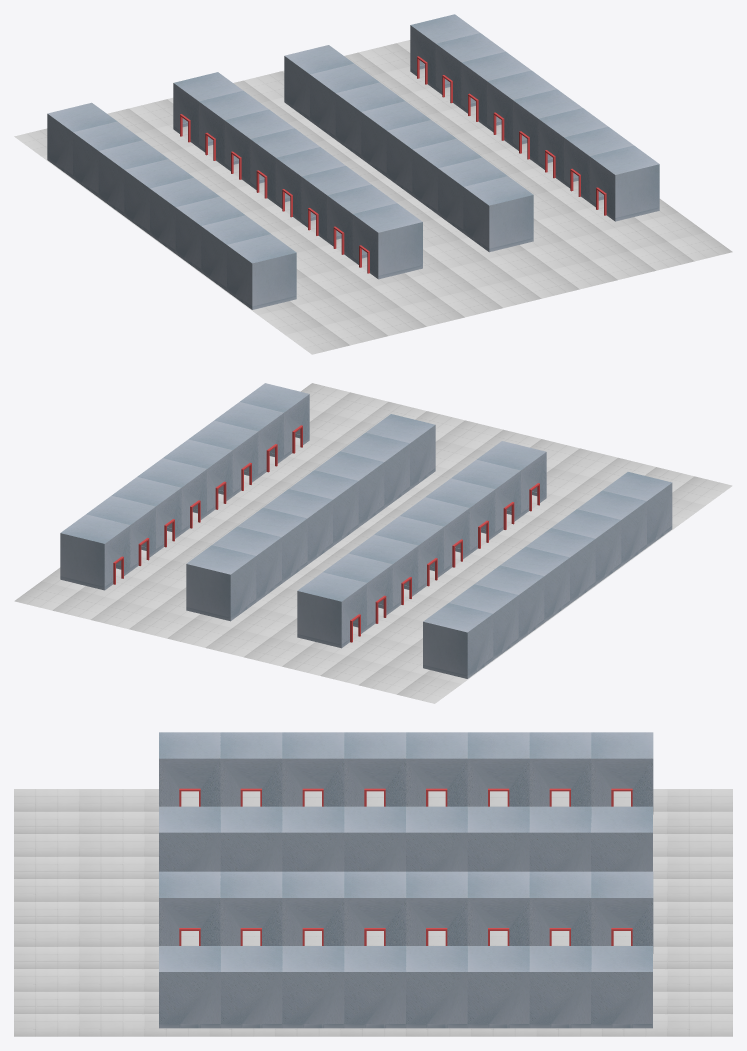
Rendered from rooms.glb.
3 views of the same model, one above another, from view 1: azimuth 30°, elevation 25°; view 2: azimuth 150°, elevation 25°; view 3: azimuth 270°, elevation 25° (orthographic). The views are drawn at different scales.
Parts seen in each view (by area): view 1: Plane_col; view 2: Plane_col; view 3: Plane_col.
Part boxes in pixels (box(x1,y1,x2,y2)): Plane_col: box(14, 14, 732, 354); Plane_col: box(14, 383, 732, 703); Plane_col: box(14, 732, 732, 1036).
Size of the model in its own units: 94.51 by 10.11 by 116.
4 materials, 3 textured.
